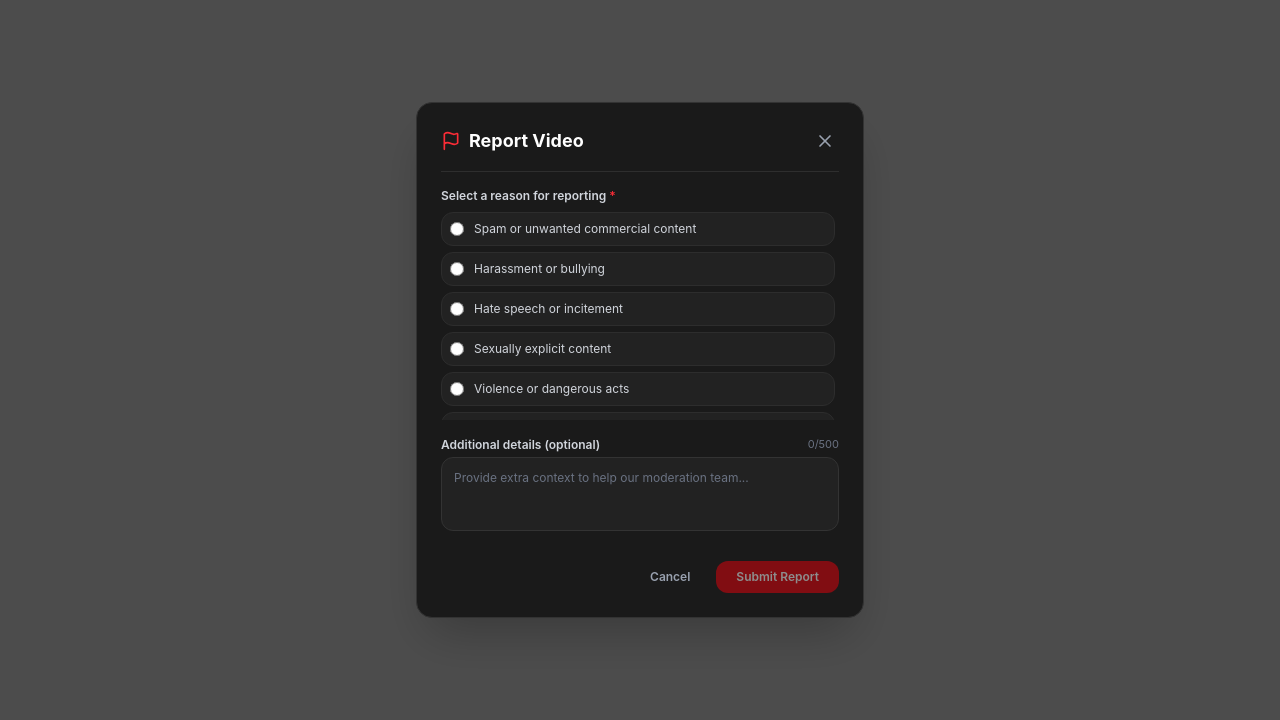
Scenario: Admin & Moderation UI (Task U4) › 2. User Reporting (ReportDialog) › handles 400 cannot report self and 429 rate limit errors
Click the radio button labelled "Spam or unwanted commercial content" at (457, 229), box [450, 222, 464, 236]
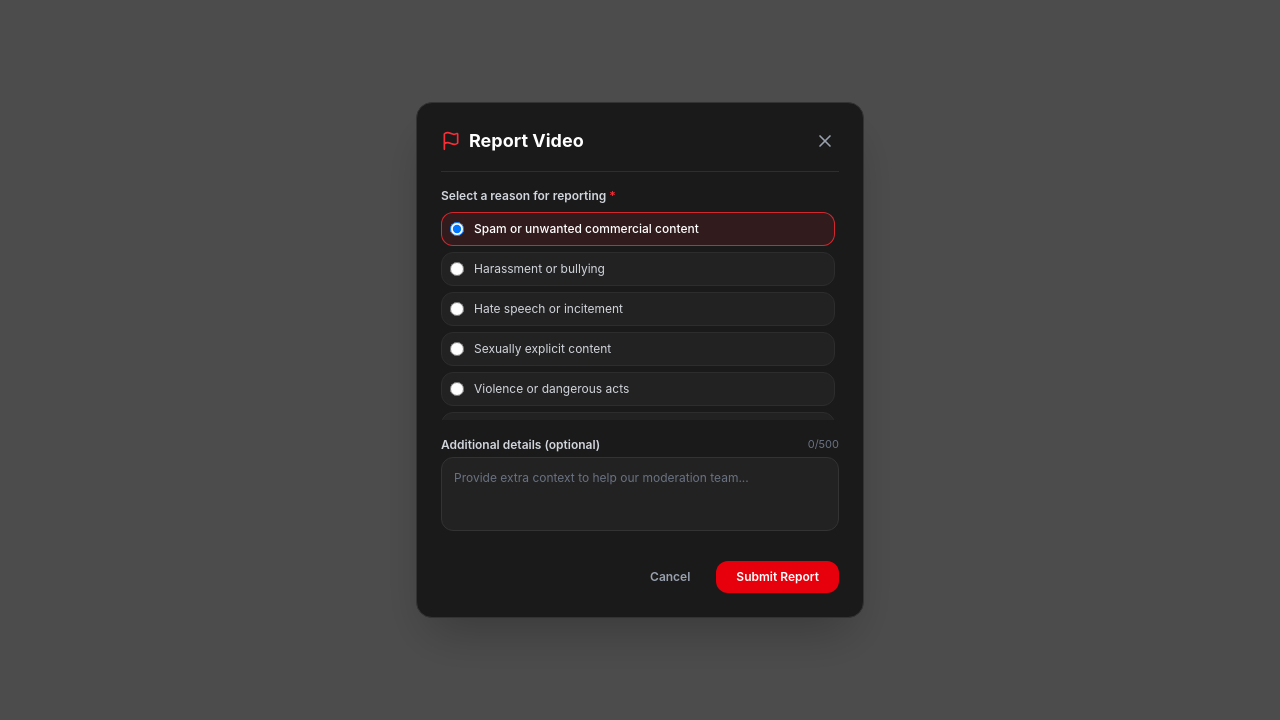
Click the button "Submit Report" at (778, 577), box [716, 561, 839, 593]
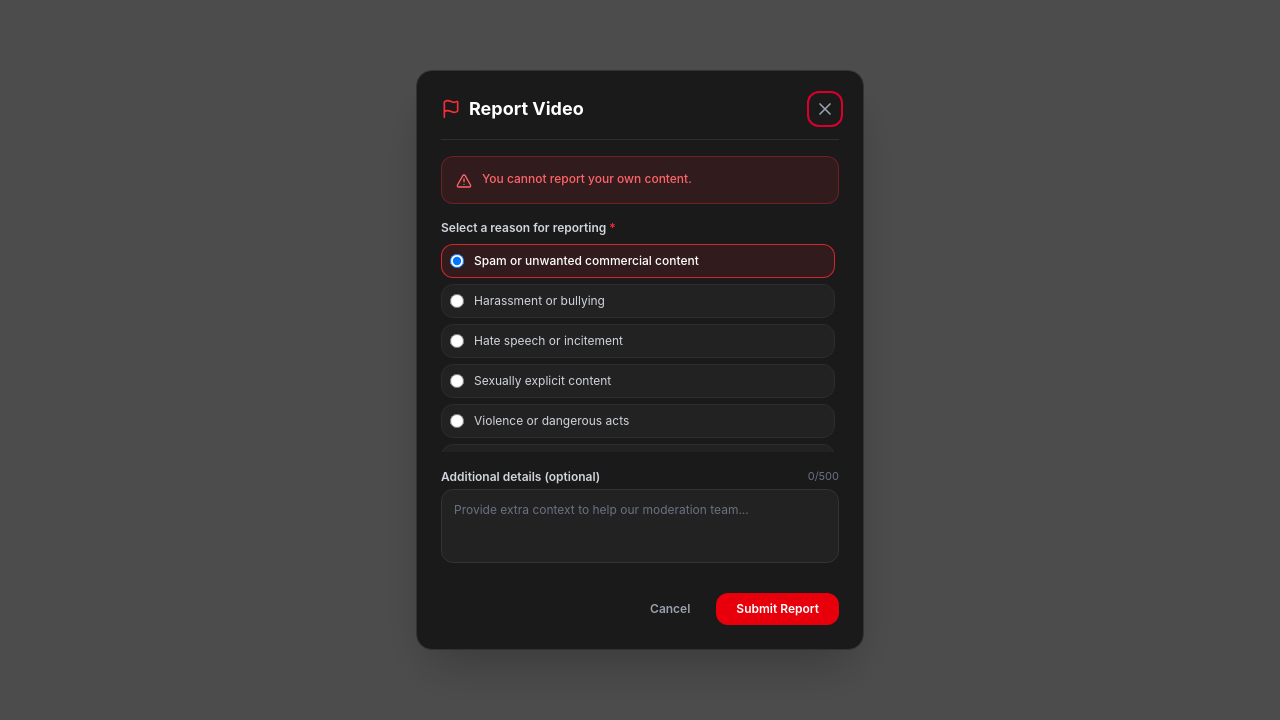
Result: the text "You cannot report your own content." is shown at [482, 171, 692, 187]
